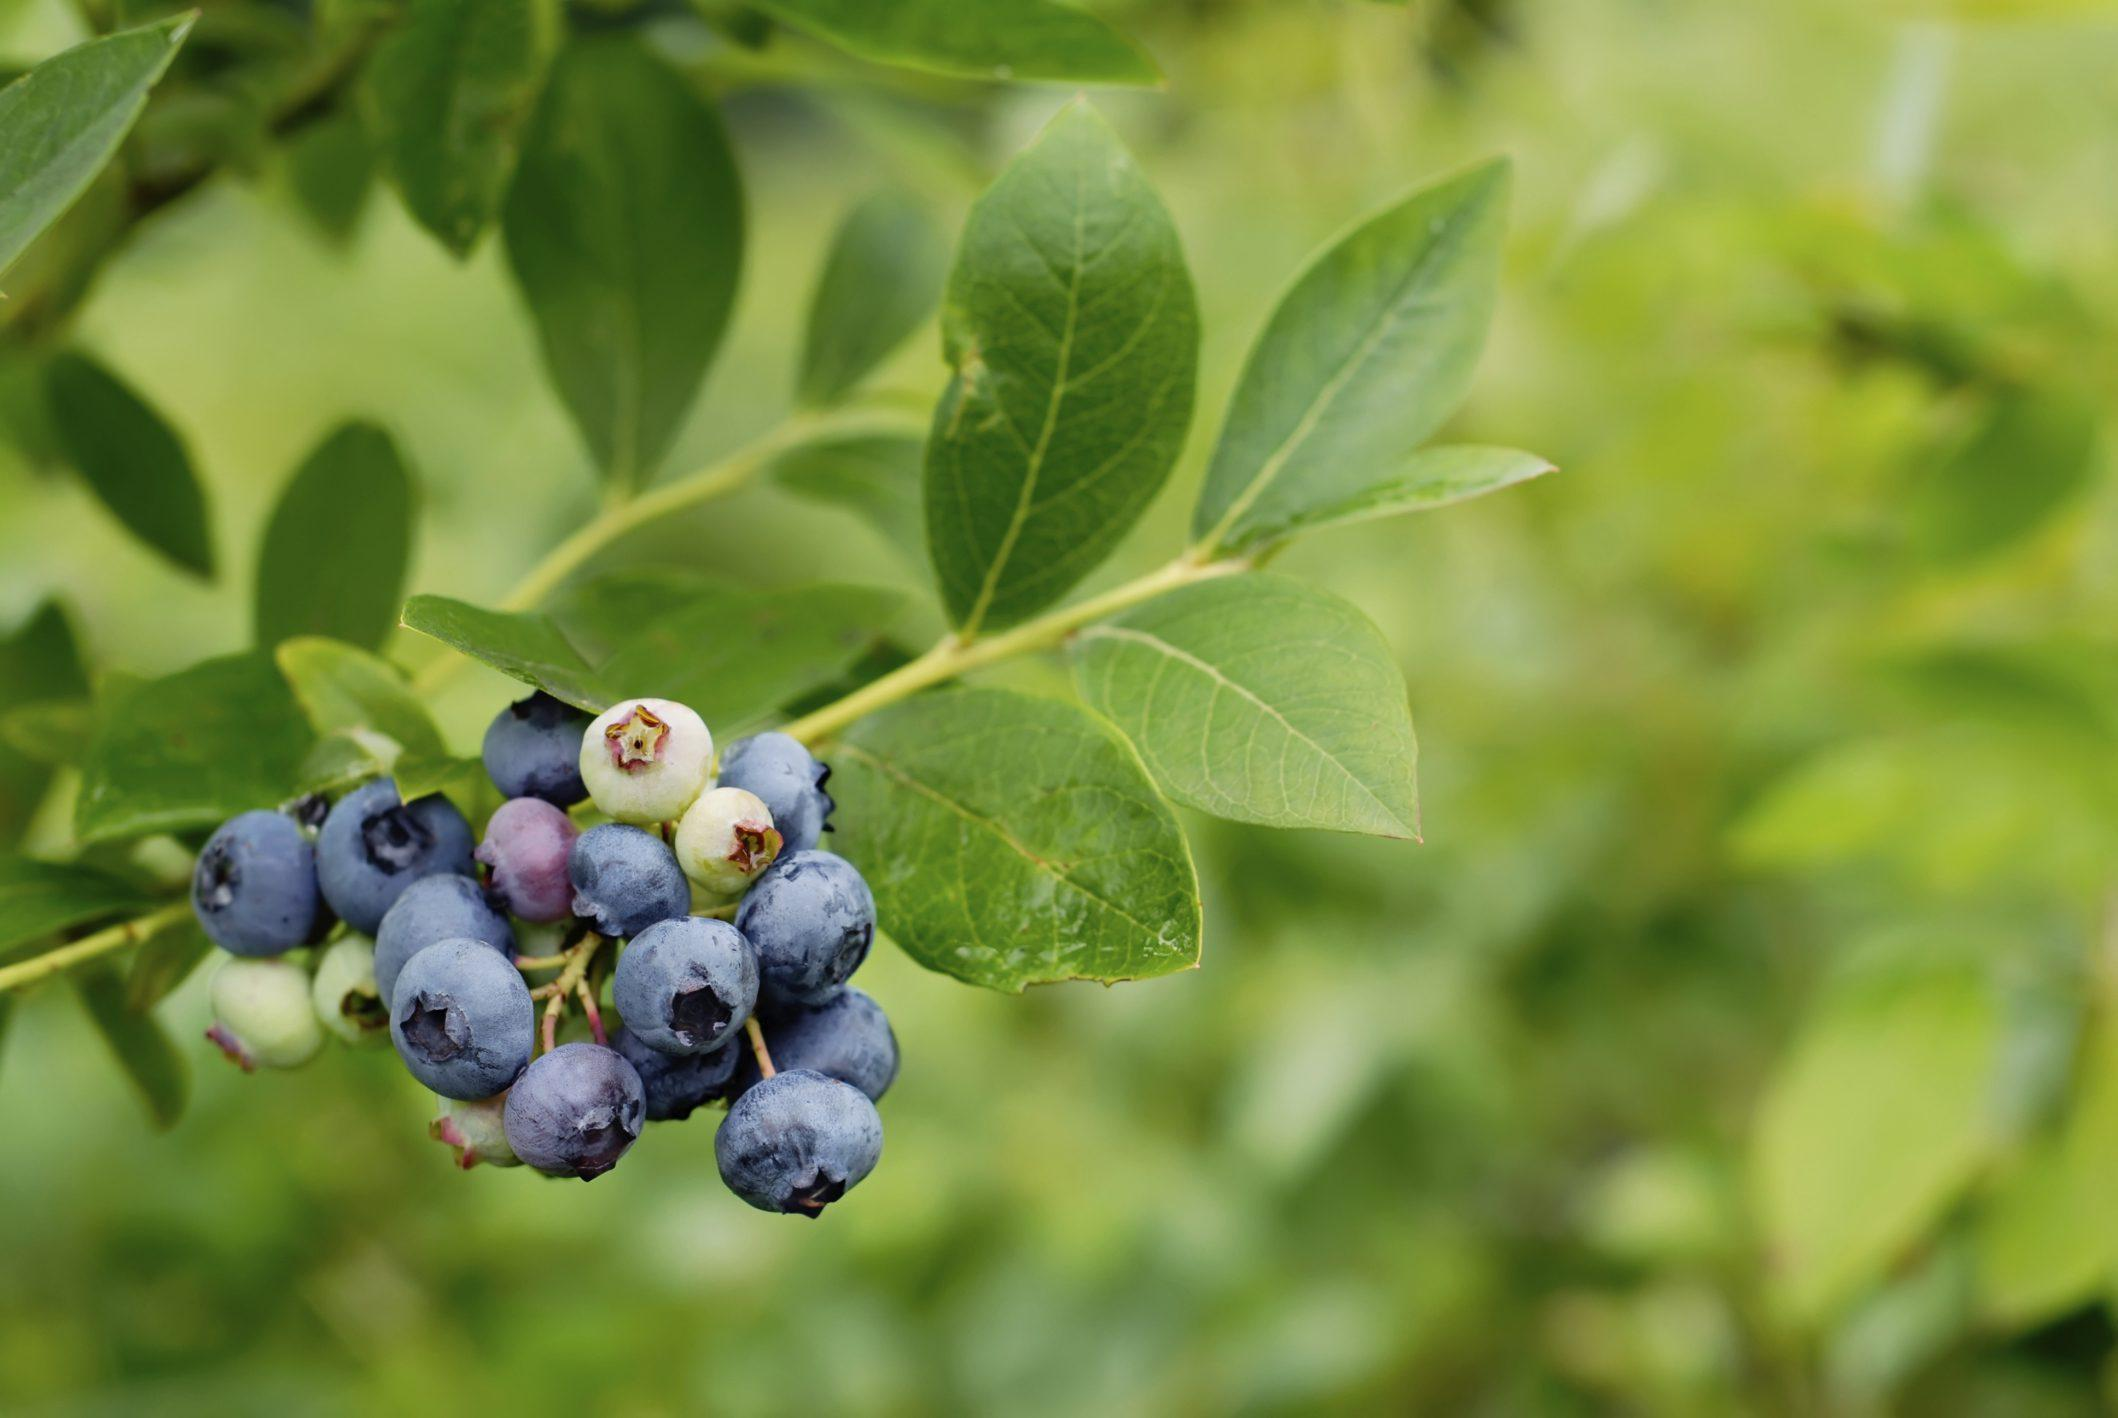Blueberry leaf: (891, 82, 1205, 631), (1182, 141, 1563, 554), (821, 704, 1223, 1011), (1071, 565, 1447, 858)
